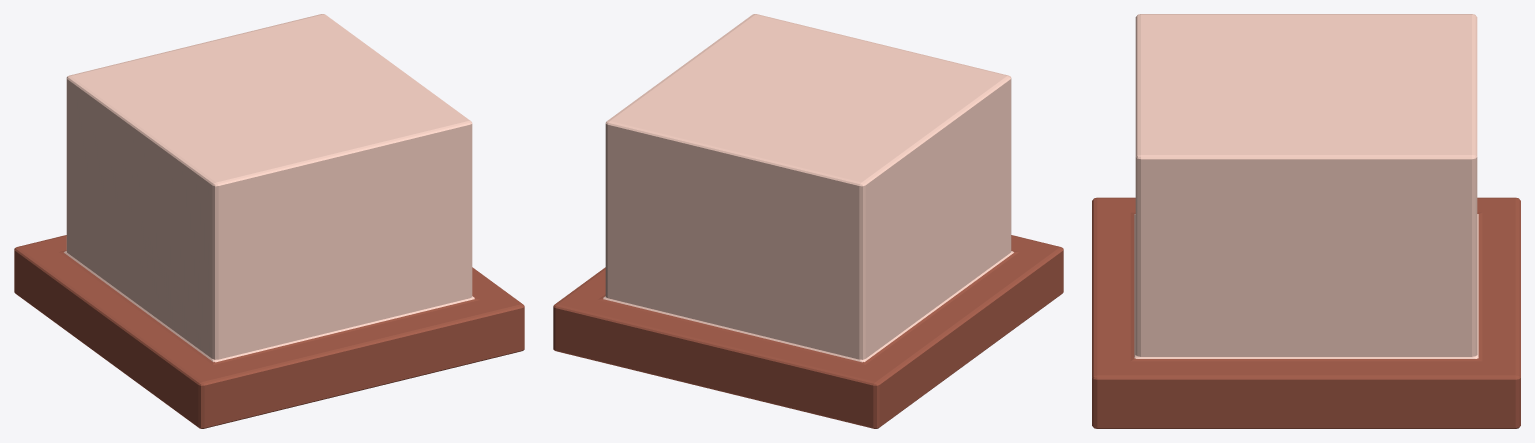
Rendered from item-stand11.fbx.
The picture shows the model from 3 angles, left to right: view 1: azimuth 30°, elevation 25°; view 2: azimuth 150°, elevation 25°; view 3: azimuth 270°, elevation 25°; orthographic projection. The views are drawn at different scales.
Parts seen in each view (by area): view 1: Cube.105; view 2: Cube.105; view 3: Cube.105.
Part boxes in pixels (left/top/right/bottom): Cube.105: left=14, top=14, right=524, bottom=428; Cube.105: left=553, top=14, right=1063, bottom=428; Cube.105: left=1092, top=14, right=1520, bottom=428.
Bounding box in the file's own units: 647 × 424 × 647.
